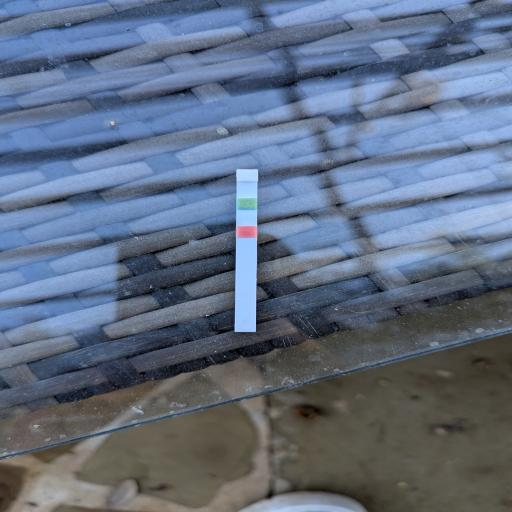strip: (235, 169, 259, 332)
